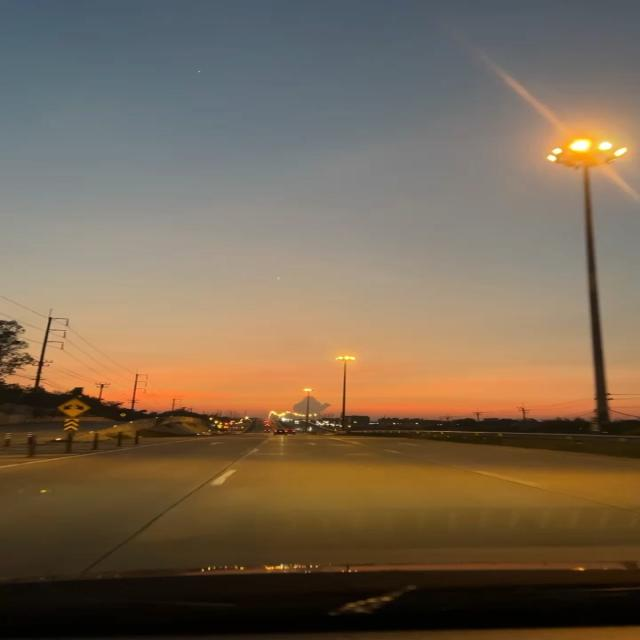Poth-hole: (103, 453, 578, 502)
